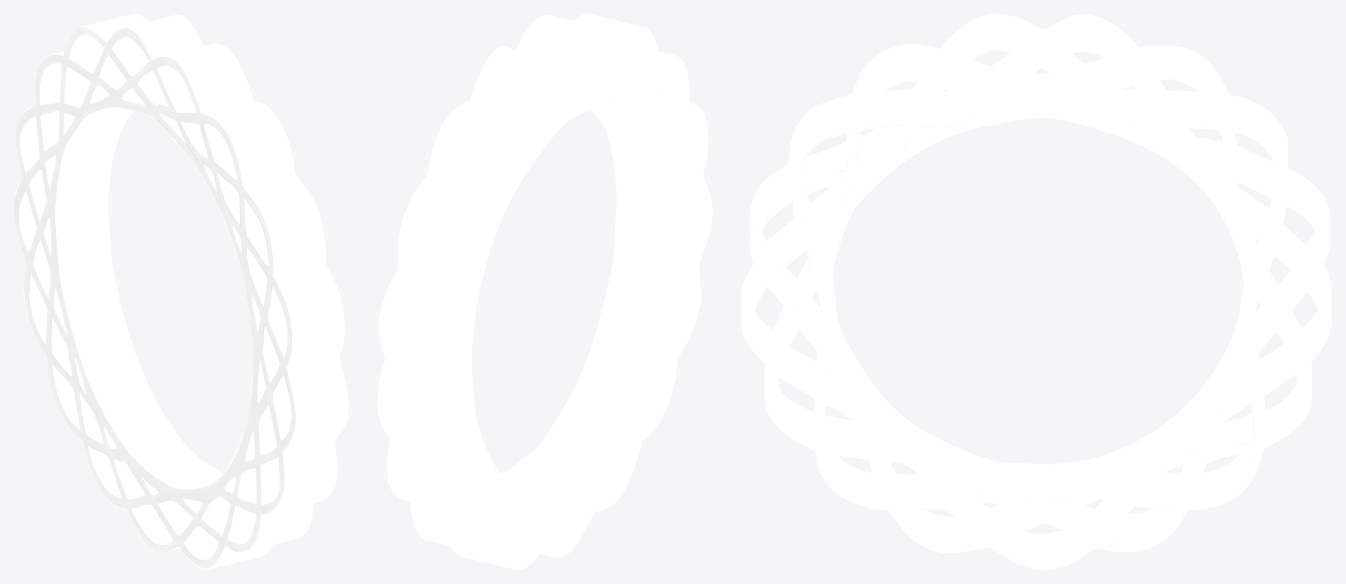
3 renders of one model, left to right at view 1: azimuth 30°, elevation 25°; view 2: azimuth 150°, elevation 25°; view 3: azimuth 270°, elevation 25°, orthographic. The views are drawn at different scales.
Visible parts, largest first — view 1: Layer 1; view 2: Layer 1; view 3: Layer 1.
Boxes of the visible parts, x1=… form: Layer 1: x1=14, y1=14, x2=348, y2=569; Layer 1: x1=377, y1=14, x2=712, y2=569; Layer 1: x1=741, y1=14, x2=1331, y2=569.
Bounding box in the file's own units: 742 × 6809 × 6889.
3 materials, 3 textured.
